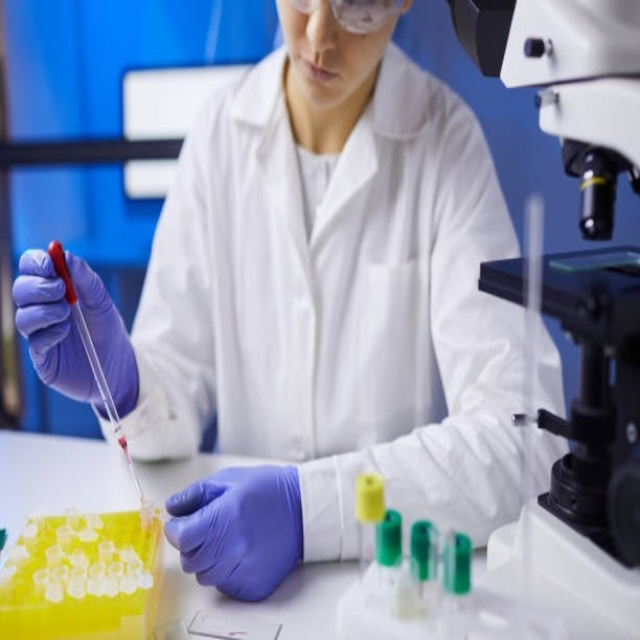Gafas: (281, 0, 409, 34)
Guantes: (13, 246, 139, 416), (163, 463, 304, 603)
Sin_mascara: (290, 44, 345, 104)
